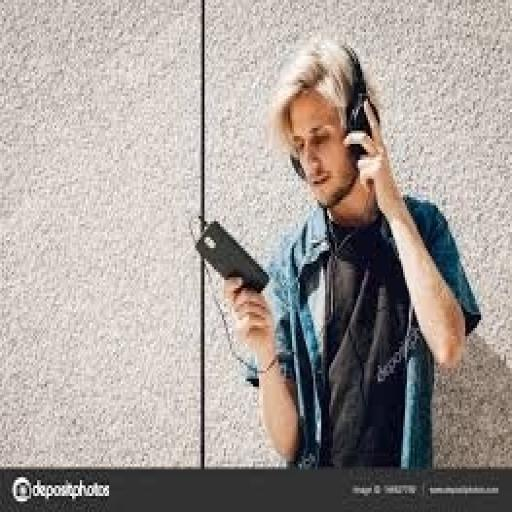listening_to_music: (220, 35, 485, 472)
